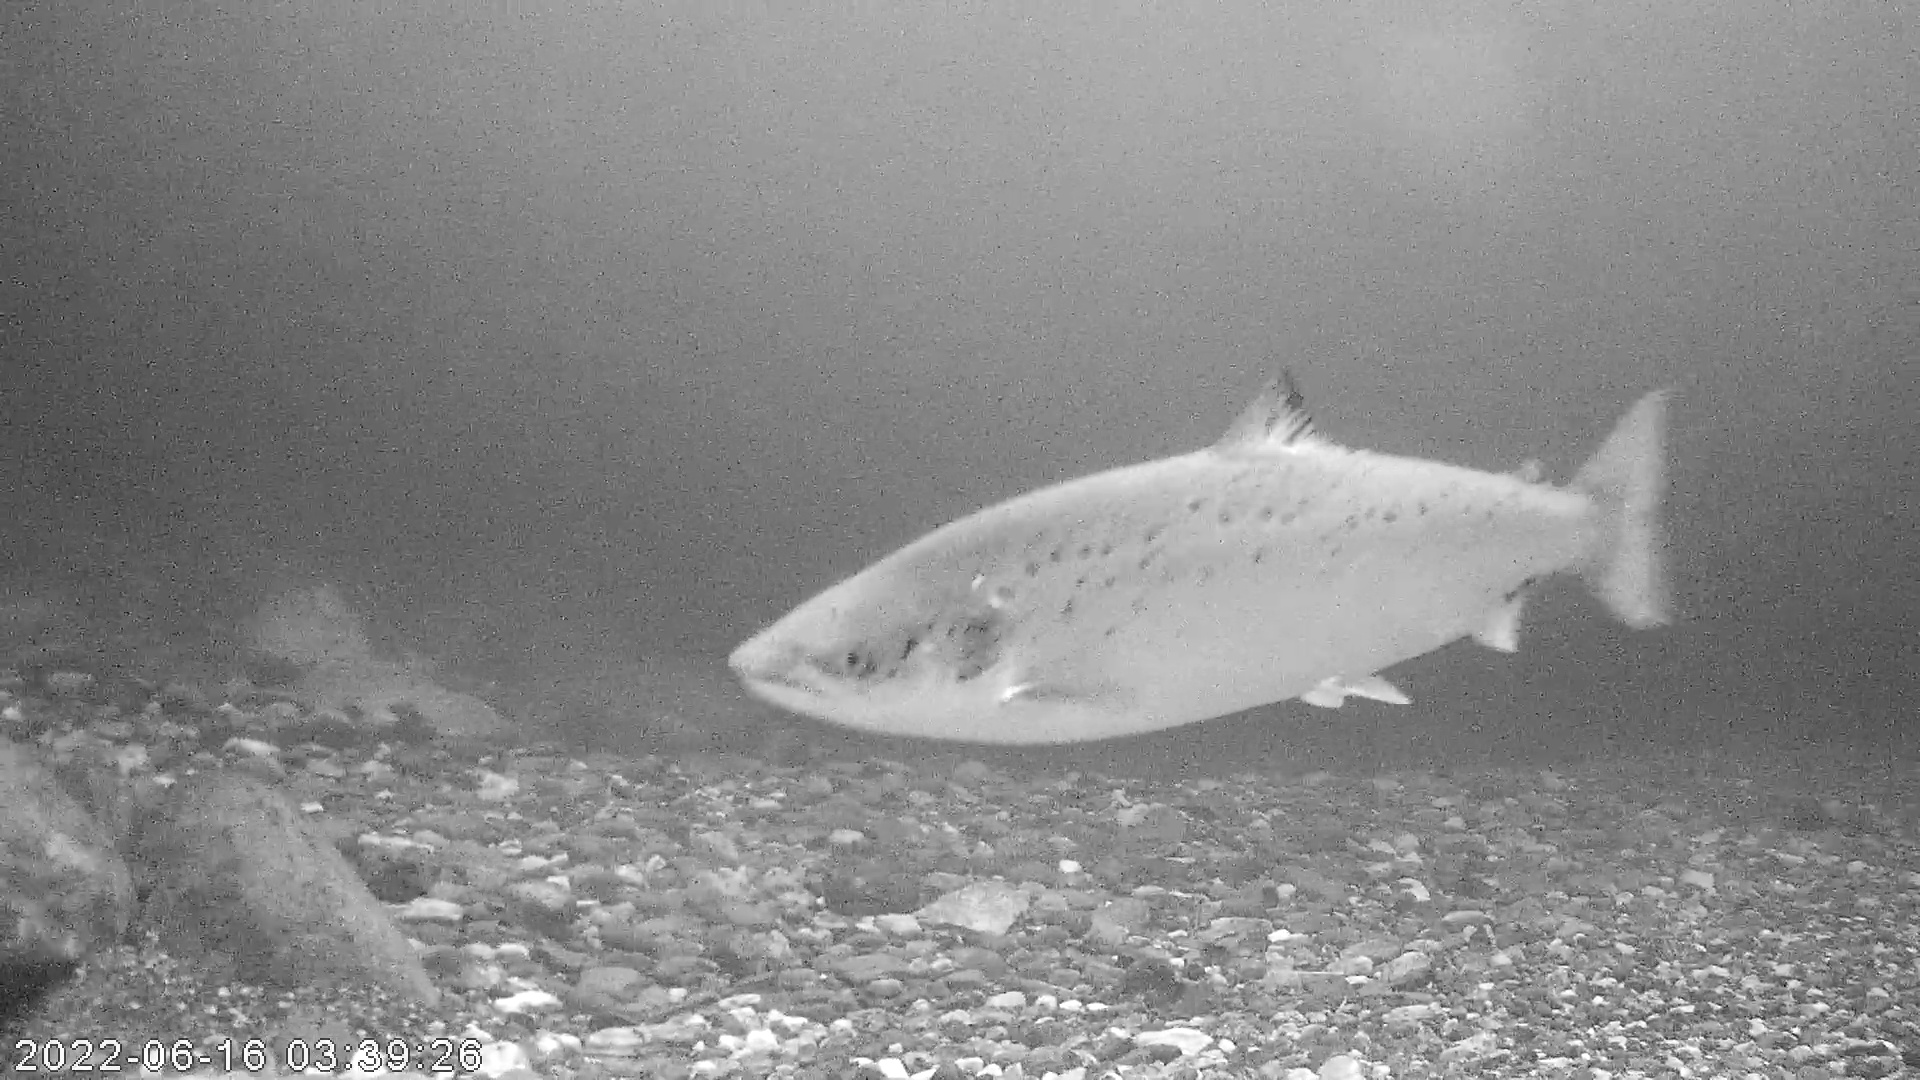salmon: (724, 365, 1668, 750)
